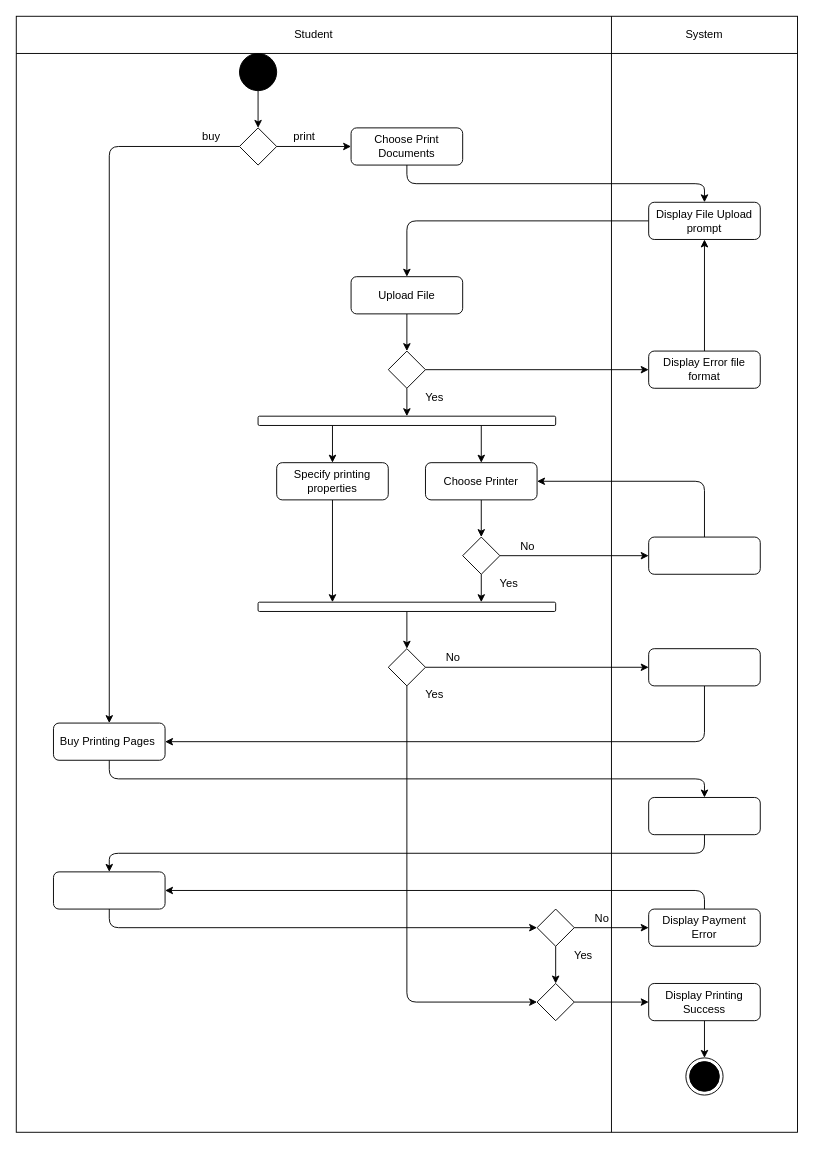
This 814x1149 diagram has some shape labels left out. The shapes that lost their labels are listed below. From the top down, each one's box as (x1, y1, x2, y2) in pixels, then its label:
(648, 536, 760, 574): Display Printer not available
(648, 648, 760, 686): Display Not enough Printing Pages
(648, 797, 760, 835): Display BKPay
(53, 871, 165, 909): Enter Credits Number
